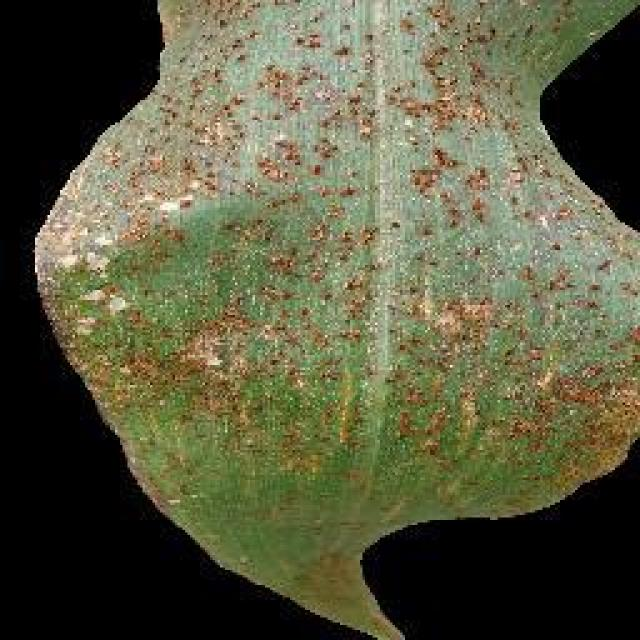Corn Common Rust: (161, 0, 498, 573)
